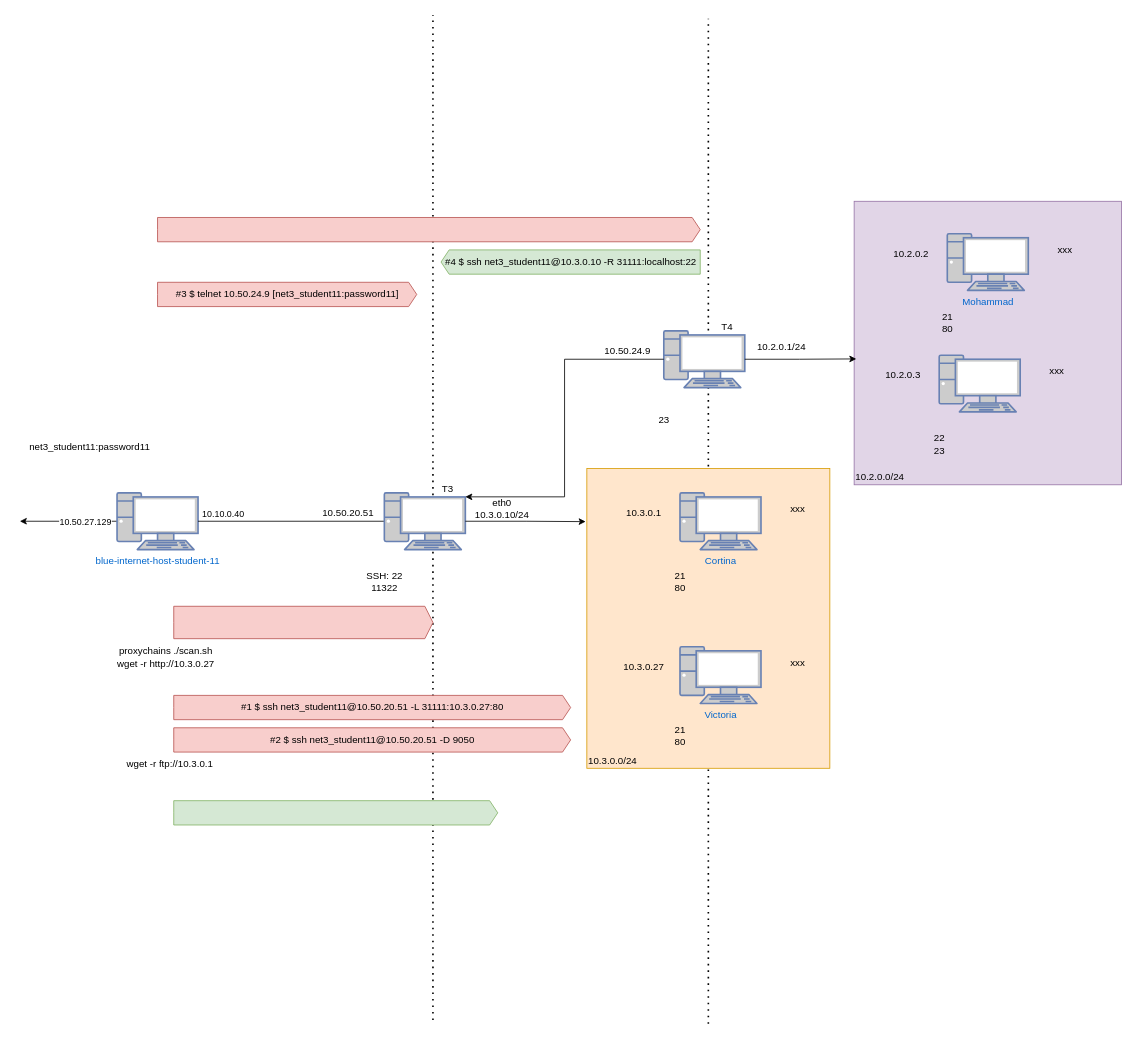
This 1136x1039 diagram has some shape labels left out. Each missing label, with the centre of its shape:
#4 $ ssh net3_student11@10.50.20.51 -L 31112:localhost:31111: point 335,812
#4 $ ssh net3_student11@localhost -p 31112 -D 9050: point 428,229
Atropia: point 424,521
Pineland: point 704,359
ssh net3_student11@10.50.20.51 ssh net3_student11@10.50.20.51 -D 9050: point 303,622
